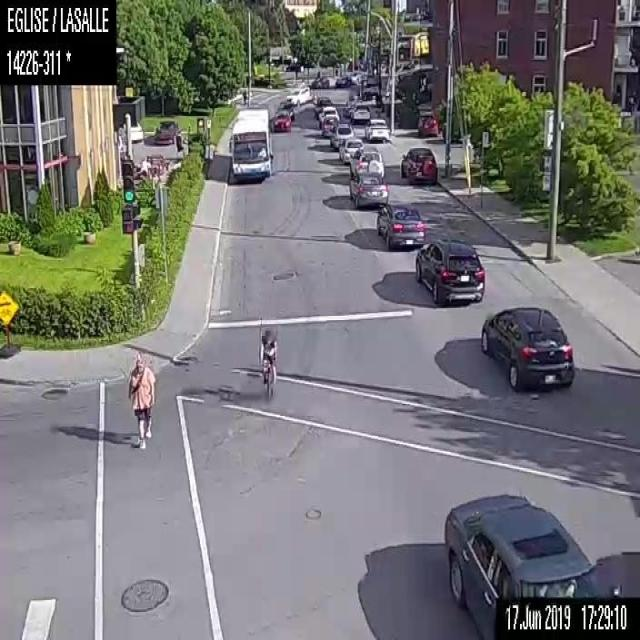bus: (226, 106, 272, 179)
cyclist: (257, 322, 278, 396)
pedestrian: (127, 352, 154, 448)
vehicle: (444, 491, 614, 638), (479, 302, 576, 390), (414, 235, 484, 304), (375, 201, 424, 248), (399, 145, 437, 184), (348, 171, 388, 206), (346, 145, 386, 177), (363, 117, 390, 141), (152, 120, 178, 144), (337, 137, 362, 160), (329, 123, 353, 146), (284, 84, 310, 105), (416, 114, 438, 138), (118, 121, 144, 141), (270, 110, 292, 130), (320, 114, 340, 136), (349, 102, 370, 122), (277, 100, 294, 120), (316, 105, 338, 119), (340, 99, 356, 118), (310, 75, 328, 89), (333, 74, 351, 86), (315, 96, 331, 106)
